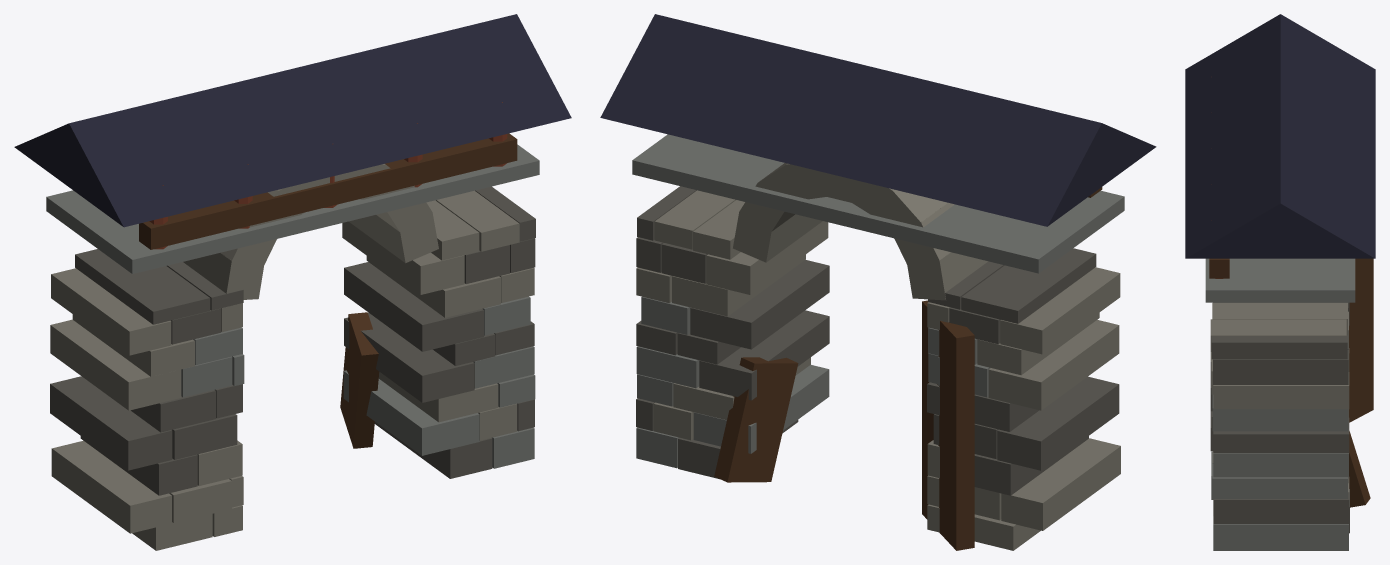
The model's file is sanseong_gate.glb.
The picture shows the model from 3 angles, left to right: view 1: azimuth 30°, elevation 25°; view 2: azimuth 150°, elevation 25°; view 3: azimuth 270°, elevation 25°; orthographic projection. The views are drawn at different scales.
Visible parts, largest first — view 1: sanseong_gate; view 2: sanseong_gate; view 3: sanseong_gate.
Boxes of the visible parts, x1,y1,x2,y2 form: sanseong_gate: (14,14,571,550); sanseong_gate: (600,14,1156,550); sanseong_gate: (1185,14,1375,550).
Bounding box in the file's own units: 6.6 × 5.88 × 2.8.
